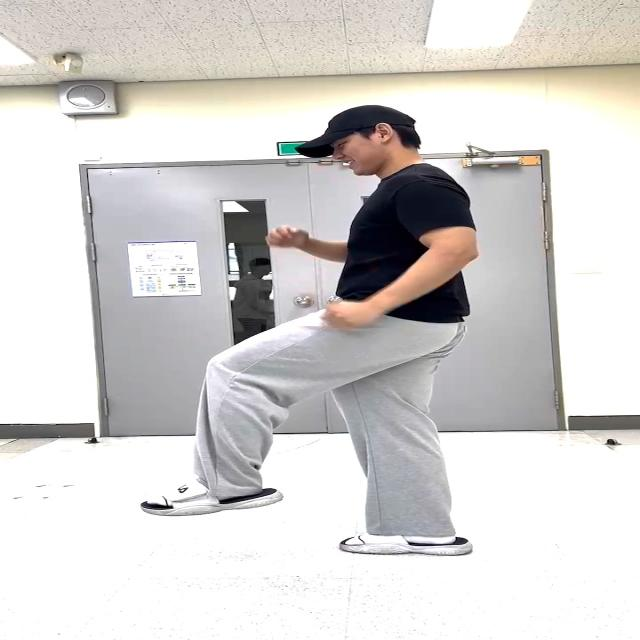leg: (94, 303, 388, 527)
